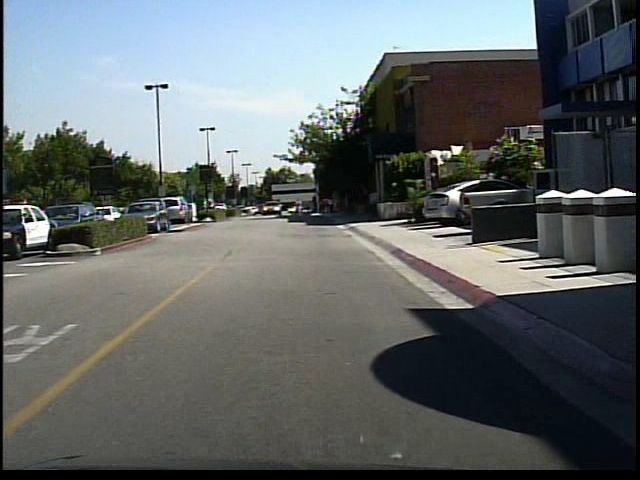person: (199, 190, 215, 218), (293, 194, 308, 221)
